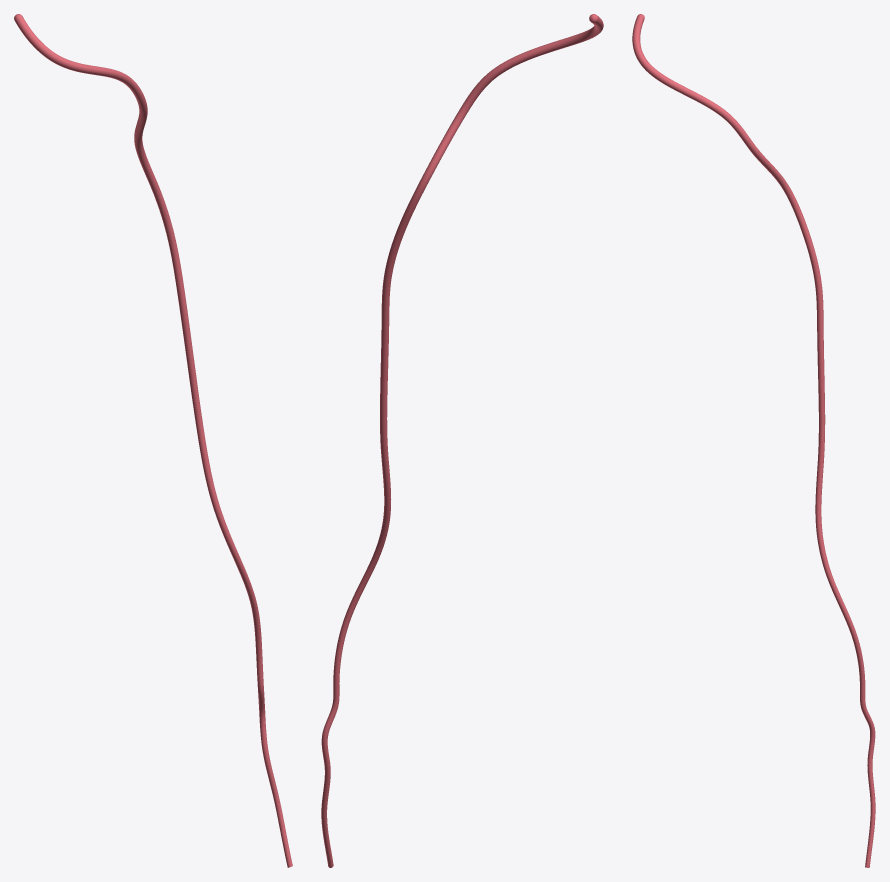
The model's file is fma13326_fj2220.glb.
3 views of the same model, side by side, from view 1: azimuth 30°, elevation 25°; view 2: azimuth 150°, elevation 25°; view 3: azimuth 330°, elevation 25° (orthographic). The views are drawn at different scales.
Parts seen in each view (by area): view 1: FMA13326_FJ2220; view 2: FMA13326_FJ2220; view 3: FMA13326_FJ2220.
Part boxes in pixels (x1=…): FMA13326_FJ2220: x1=14, y1=14, x2=292, y2=867; FMA13326_FJ2220: x1=321, y1=14, x2=603, y2=867; FMA13326_FJ2220: x1=632, y1=14, x2=875, y2=867.
Bounding box in the file's own units: 0.1722 × 0.5524 × 0.0541.
